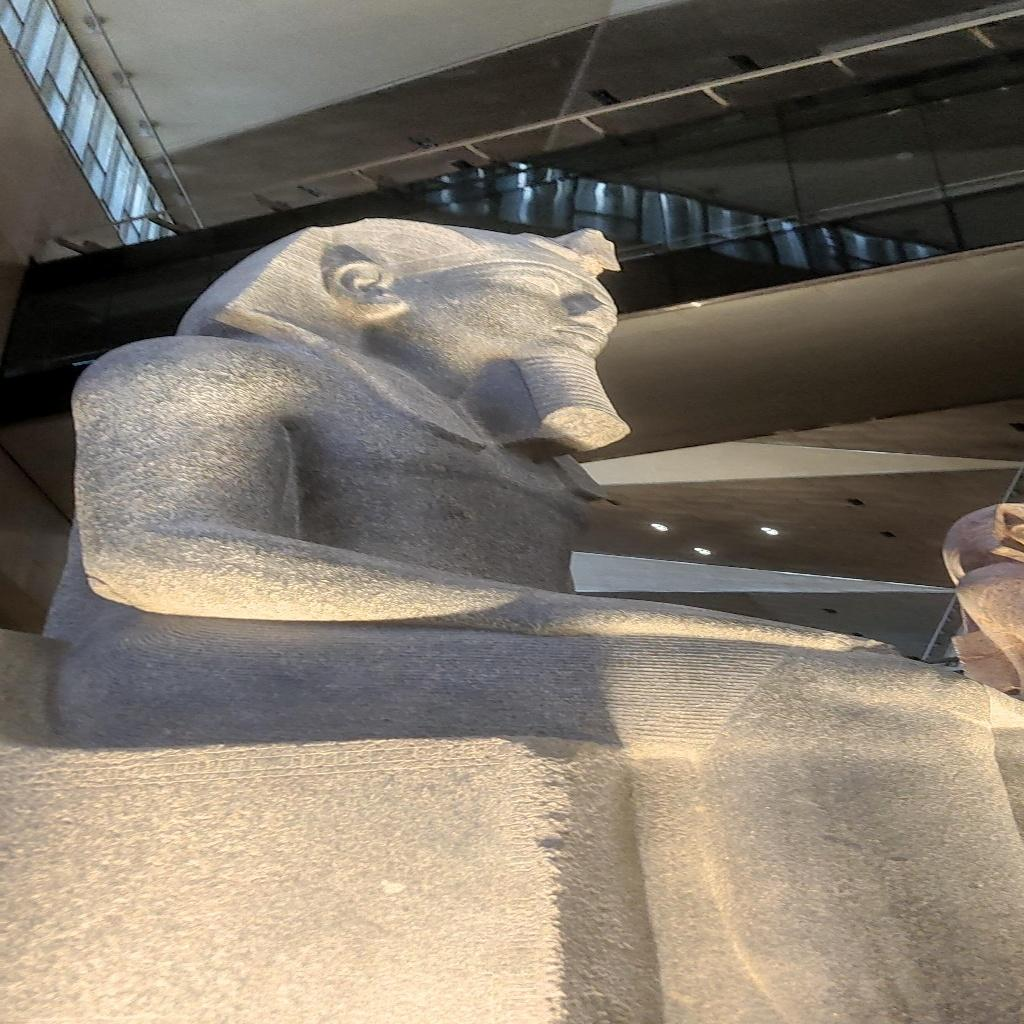Seated Statue of Amenhotep III: (12, 213, 1016, 1018)
